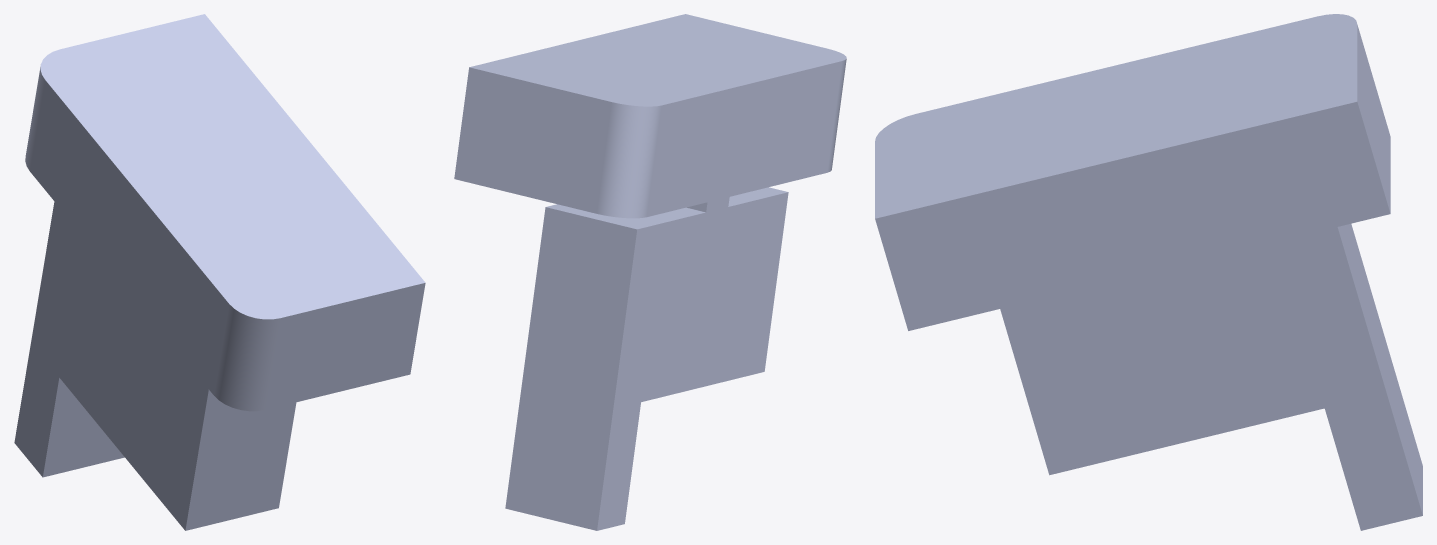
The model's file is body108_visual.obj.
3 views of the same model, side by side, from view 1: azimuth 30°, elevation 25°; view 2: azimuth 150°, elevation 25°; view 3: azimuth 270°, elevation 25° (orthographic). The views are drawn at different scales.
Visible parts, largest first — view 1: Body108; view 2: Body108; view 3: Body108.
Part boxes in pixels (x1,y1,x2,y2): Body108: (14, 14, 425, 530); Body108: (454, 14, 846, 530); Body108: (875, 14, 1422, 530).
Bounding box in the file's own units: 0.054 × 0.1233 × 0.1317.
